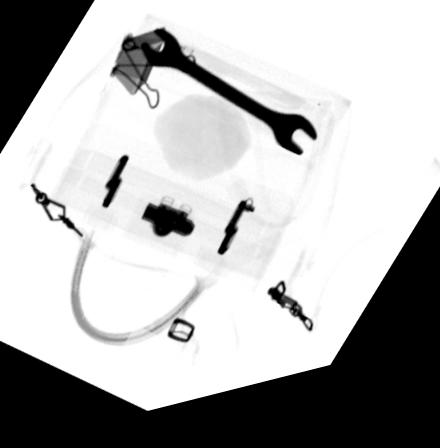Wrench: (139, 35, 319, 173)
